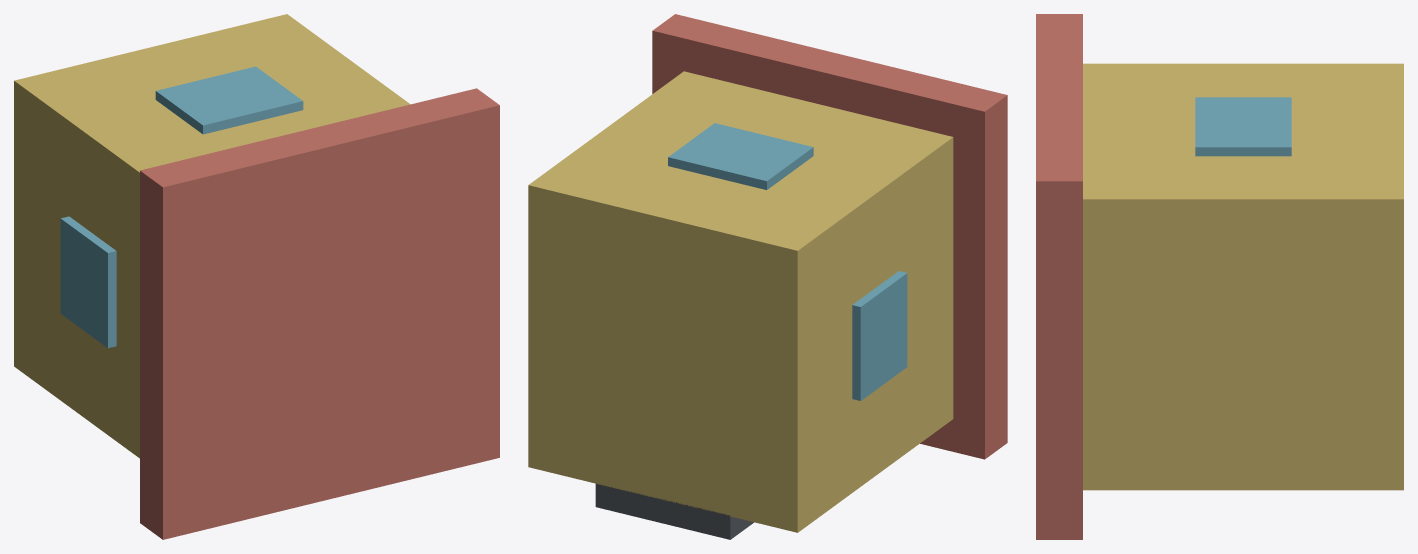
Rendered from kiosk.glb.
The picture shows the model from 3 angles, left to right: view 1: azimuth 30°, elevation 25°; view 2: azimuth 150°, elevation 25°; view 3: azimuth 270°, elevation 25°; orthographic projection. The views are drawn at different scales.
Visible parts, largest first — view 1: g1, g0, g6, g3, g5; view 2: g0, g1, g6, g3, g8, g5; view 3: g0, g1, g5, g3.
Part boxes in pixels (x1,y1,x2,y2): g1: (140,88,499,539); g0: (14,14,410,458); g6: (60,216,116,348); g3: (155,77,284,134); g5: (198,66,303,128); g0: (528,71,953,532); g1: (652,14,1007,459); g6: (852,271,907,400); g3: (686,127,813,189); g8: (595,483,753,539); g5: (668,123,794,184); g0: (1083,63,1403,490); g1: (1036,14,1082,539); g5: (1195,106,1291,156); g3: (1195,97,1291,136).
Size of the model in its own units: 3.7 by 3.7 by 3.44.
